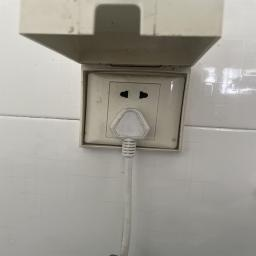outlet: (78, 67, 187, 161)
